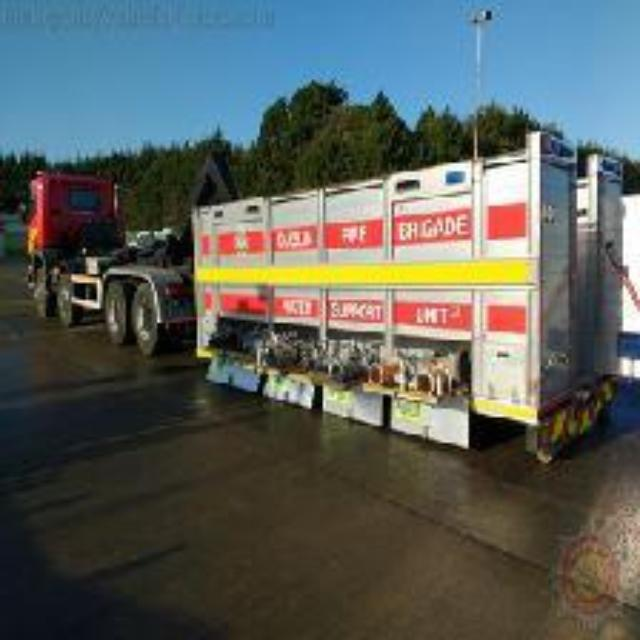emergency: (24, 150, 604, 420)
